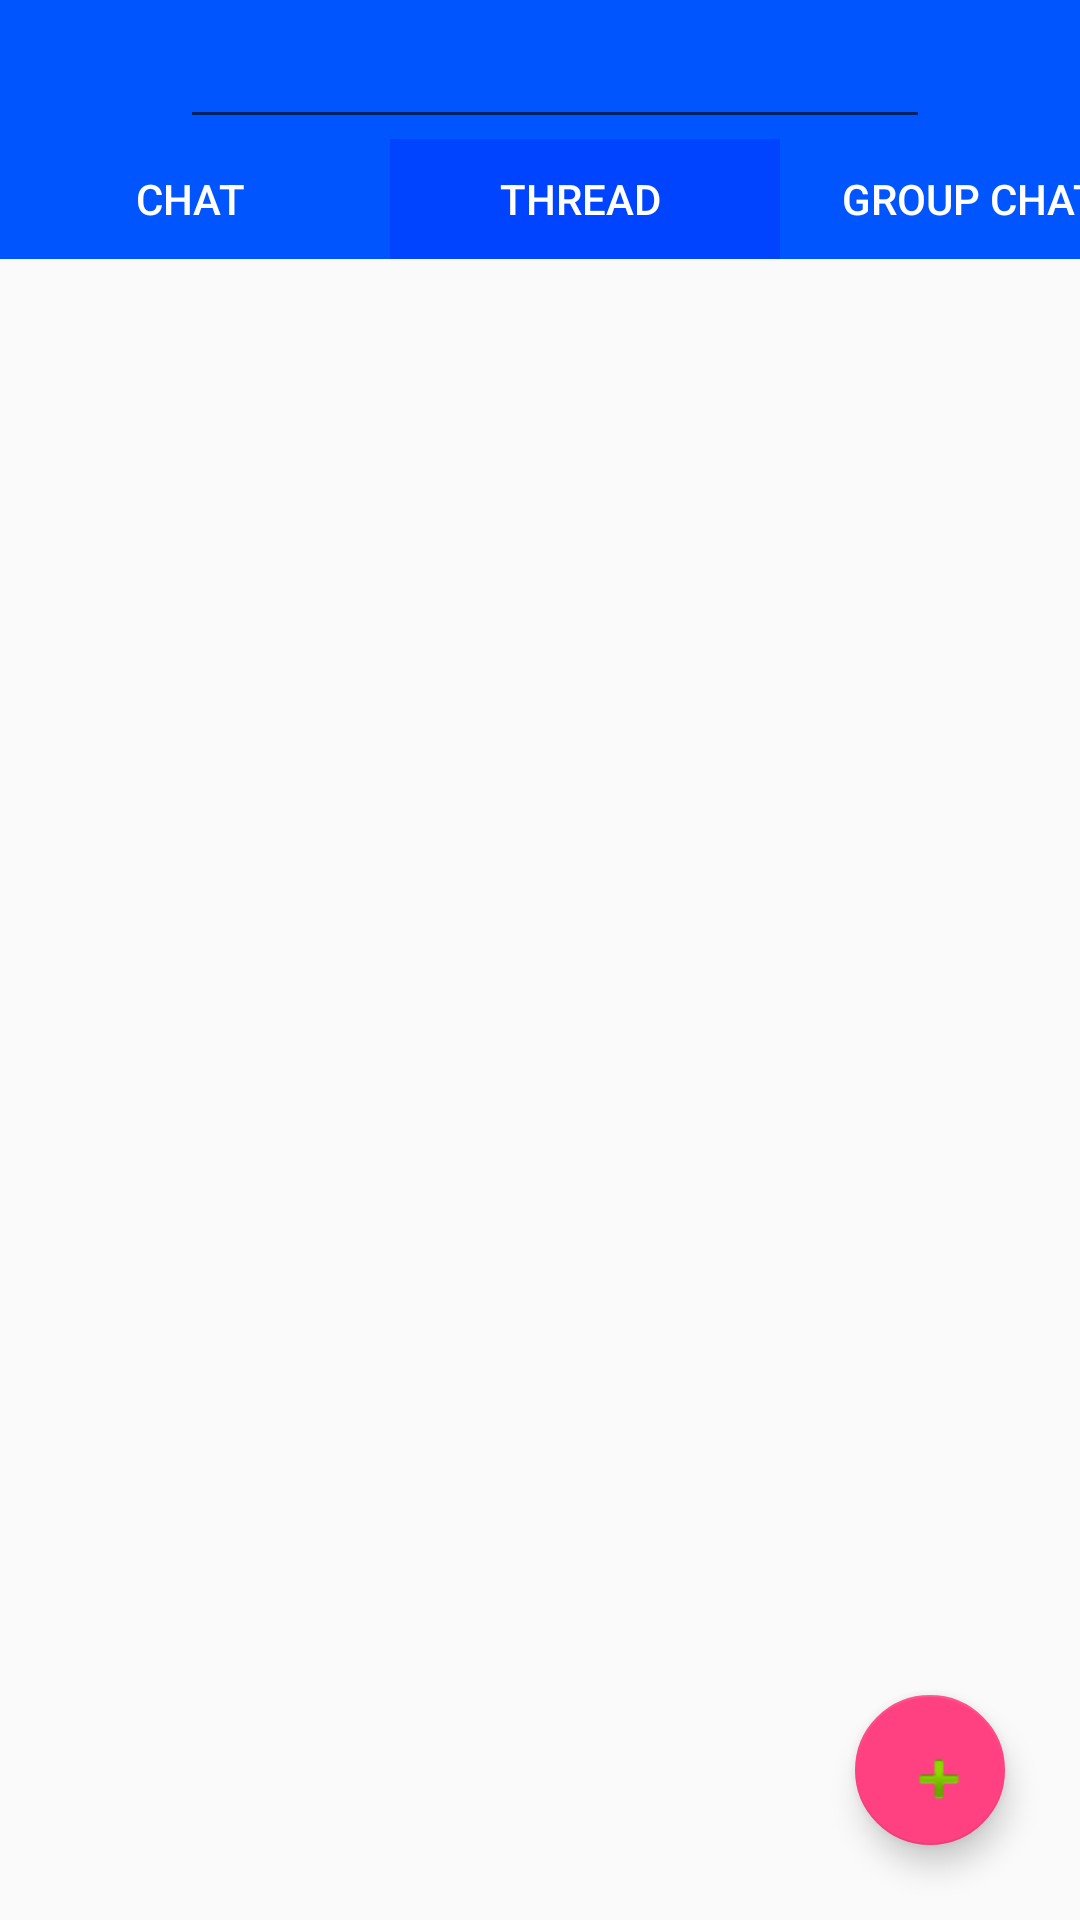

Icons on this 1080*1920 Android screen, each with its box as (x1, y1, x2, y2):
add: (855, 1695, 1005, 1845)
